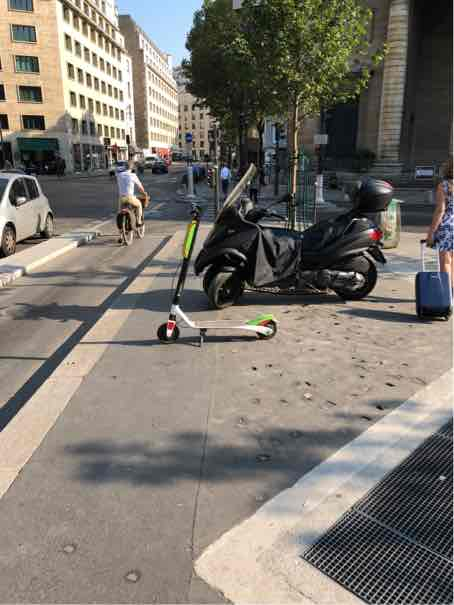scooter: (159, 175, 274, 353)
